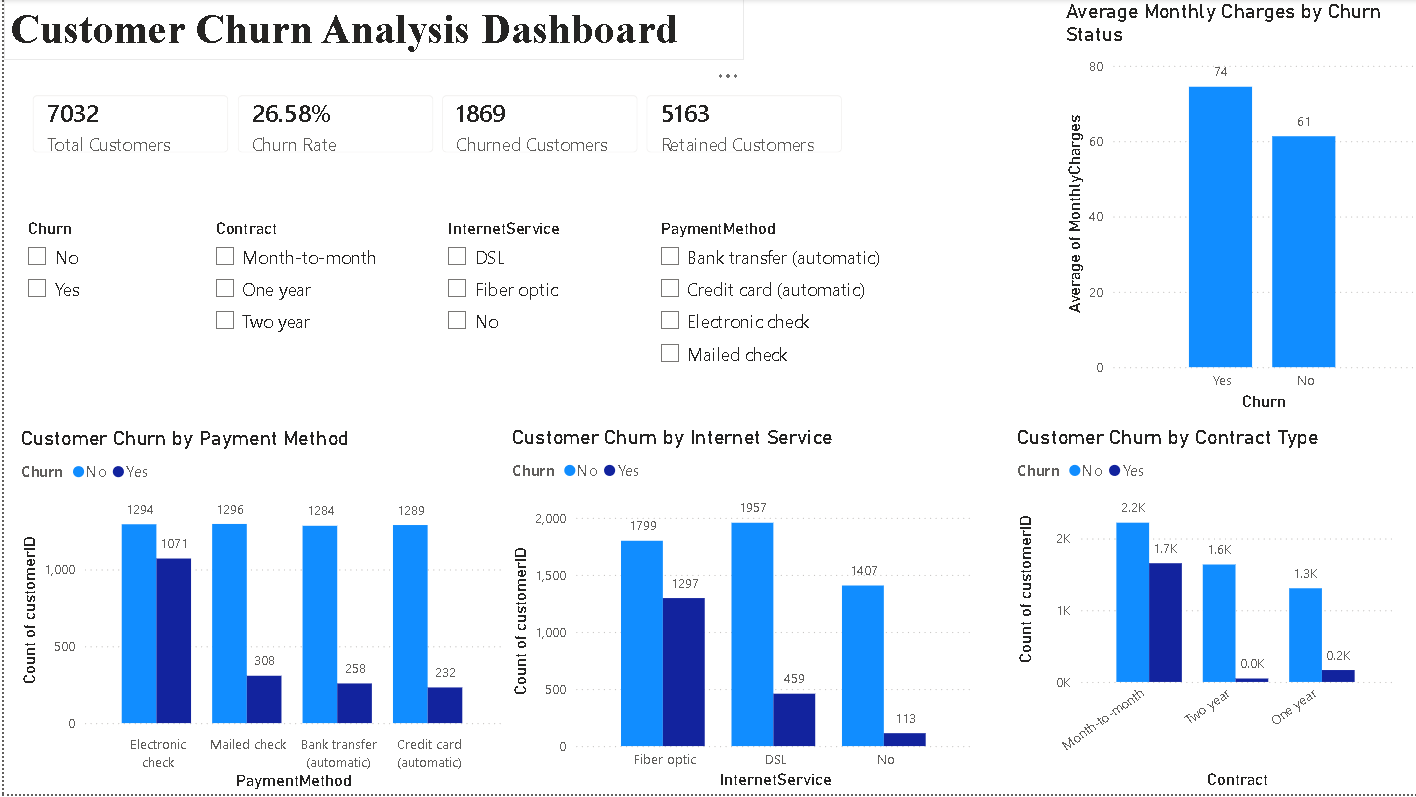

Layout of this report page (visuals, bound fields, positions):
{"tool":"powerbi","page":{"name":"Page 1","canvas":[1280,720],"ordinal":0},"visuals":[{"type":"cardVisual","fields":{"Data":["CountNonNull(clean_churn_data.customerID)","clean_churn_data.Churn Rate","clean_churn_data.Churned Customers","clean_churn_data.Retained Customers"]},"box":[9.5,70.3,767.9,86.5],"z":0},{"type":"clusteredColumnChart","title":"Customer Churn by Contract Type","fields":{"Category":["clean_churn_data.Contract"],"Y":["CountNonNull(clean_churn_data.customerID)"],"Series":["clean_churn_data.Churn"]},"box":[911.2,385.3,350.1,333.9],"z":1000},{"type":"clusteredColumnChart","title":"Customer Churn by Payment Method","fields":{"Category":["clean_churn_data.PaymentMethod"],"Y":["CountNonNull(clean_churn_data.customerID)"],"Series":["clean_churn_data.Churn"]},"box":[10,387,445,333],"z":2000},{"type":"clusteredColumnChart","title":"Customer Churn by Internet Service","fields":{"Category":["clean_churn_data.InternetService"],"Y":["CountNonNull(clean_churn_data.customerID)"],"Series":["clean_churn_data.Churn"]},"box":[454.2,385.3,428.6,333.9],"z":3000},{"type":"clusteredColumnChart","title":"Average Monthly Charges by Churn Status","fields":{"Category":["clean_churn_data.Churn"],"Y":["Avg(clean_churn_data.MonthlyCharges)"]},"box":[955,0,325,377],"z":4000},{"type":"slicer","fields":{"Values":["clean_churn_data.Churn"]},"box":[9.5,194.7,169,94.6],"z":5000},{"type":"slicer","fields":{"Values":["clean_churn_data.PaymentMethod"]},"box":[581.3,194.7,250.1,146],"z":6000},{"type":"textbox","box":[0,0,669.2,55.4],"z":7000},{"type":"slicer","fields":{"Values":["clean_churn_data.Contract"]},"box":[178.5,194.7,210.9,124.4],"z":8000},{"type":"slicer","fields":{"Values":["clean_churn_data.InternetService"]},"box":[389.4,194.7,192,124.4],"z":9000}]}

Visuals, with their boxes in screenshot pixels (x1, y1, x2, y2), scaled from the page's 1280x720 canvas onto the 1416x797 screenshot:
cardVisual - CountNonNull(clean_churn_data.customerID) x clean_churn_data.Churn Rate: 11, 78, 860, 174
"Customer Churn by Contract Type" clusteredColumnChart: 1008, 427, 1395, 796
"Customer Churn by Payment Method" clusteredColumnChart: 11, 428, 503, 796
"Customer Churn by Internet Service" clusteredColumnChart: 502, 427, 977, 796
"Average Monthly Charges by Churn Status" clusteredColumnChart: 1056, 0, 1415, 417
slicer - clean_churn_data.Churn: 11, 216, 197, 320
slicer - clean_churn_data.PaymentMethod: 643, 216, 920, 377
textbox: 0, 0, 740, 61
slicer - clean_churn_data.Contract: 197, 216, 431, 353
slicer - clean_churn_data.InternetService: 431, 216, 643, 353
